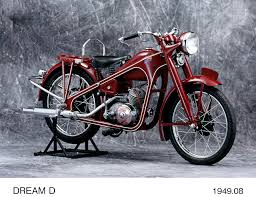motorcycle: (21, 27, 237, 168)
